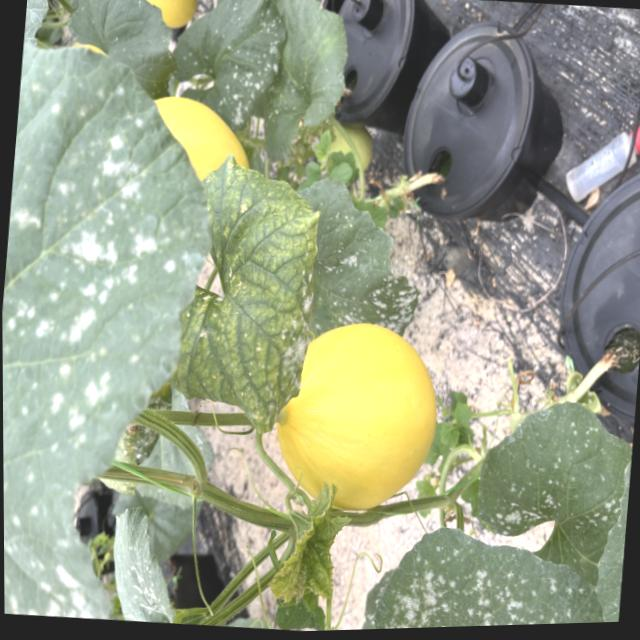CMV: (161, 144, 329, 439), (262, 472, 350, 608)
healthy: (59, 0, 182, 103), (20, 0, 55, 78)
powdery mildew: (0, 27, 234, 629), (464, 388, 637, 603), (335, 510, 626, 630), (288, 166, 433, 369), (163, 0, 296, 135), (105, 498, 220, 629), (588, 399, 637, 623)
